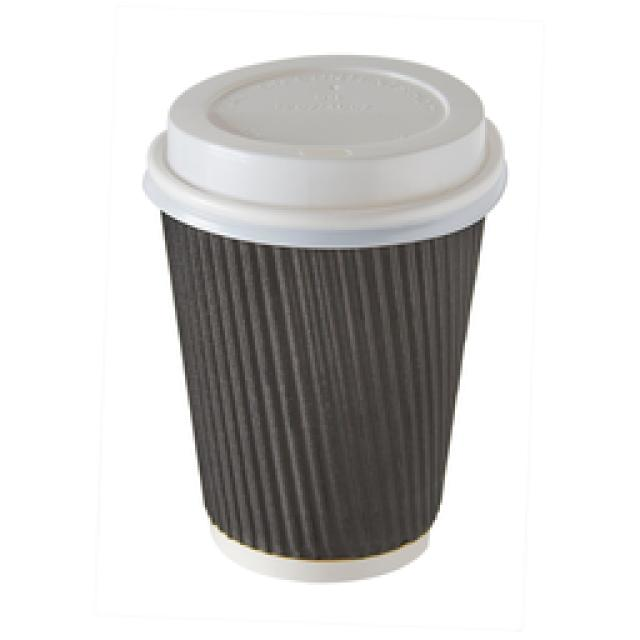paper_cups: (139, 53, 512, 585)
